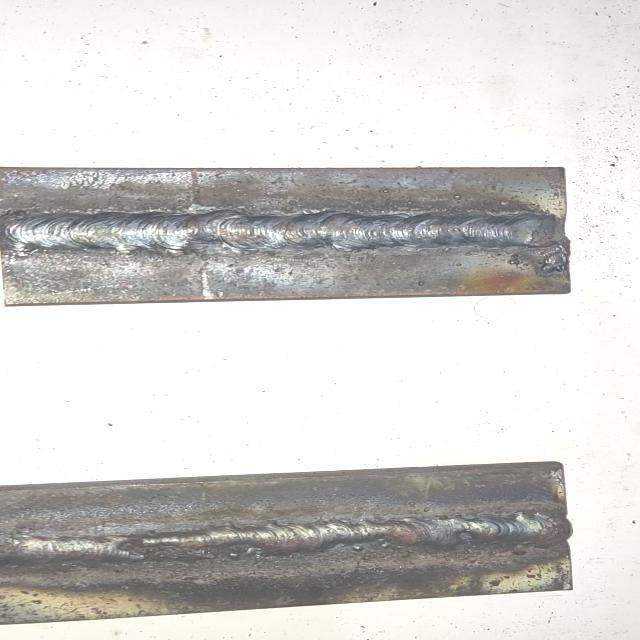Defect: (108, 529, 274, 573)
Welding Line: (0, 515, 566, 566), (0, 212, 562, 252)
Workpiece: (0, 451, 593, 631), (0, 158, 590, 311)
